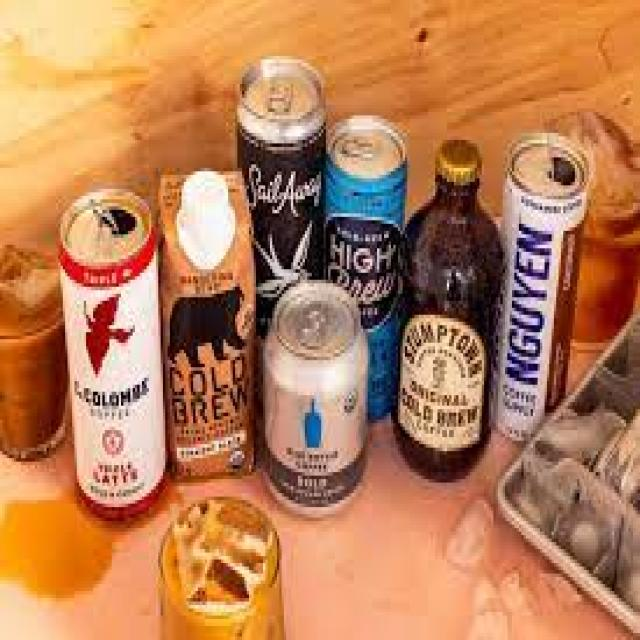Cans: (54, 182, 174, 524), (489, 126, 596, 451), (258, 276, 379, 511)
